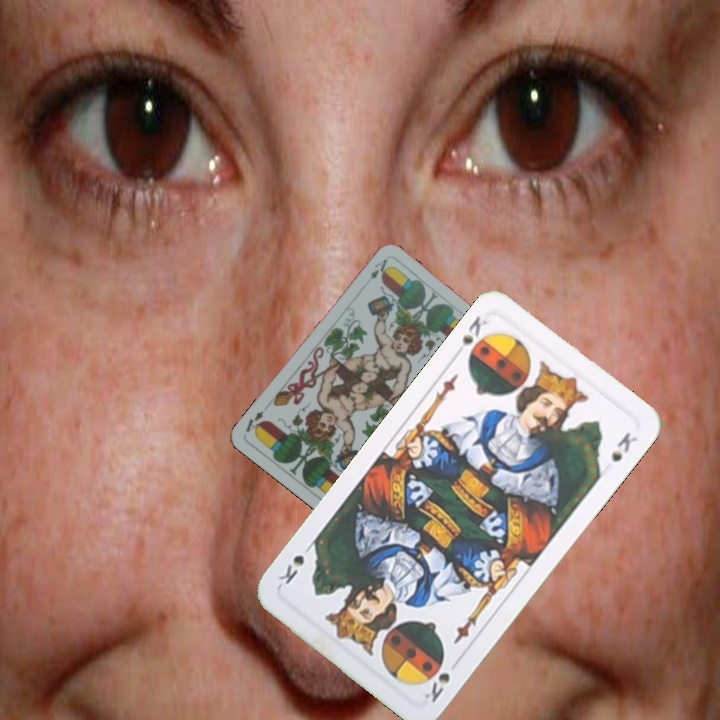EA: (366, 255, 390, 282)
SK: (419, 656, 453, 706), (457, 311, 490, 349)
